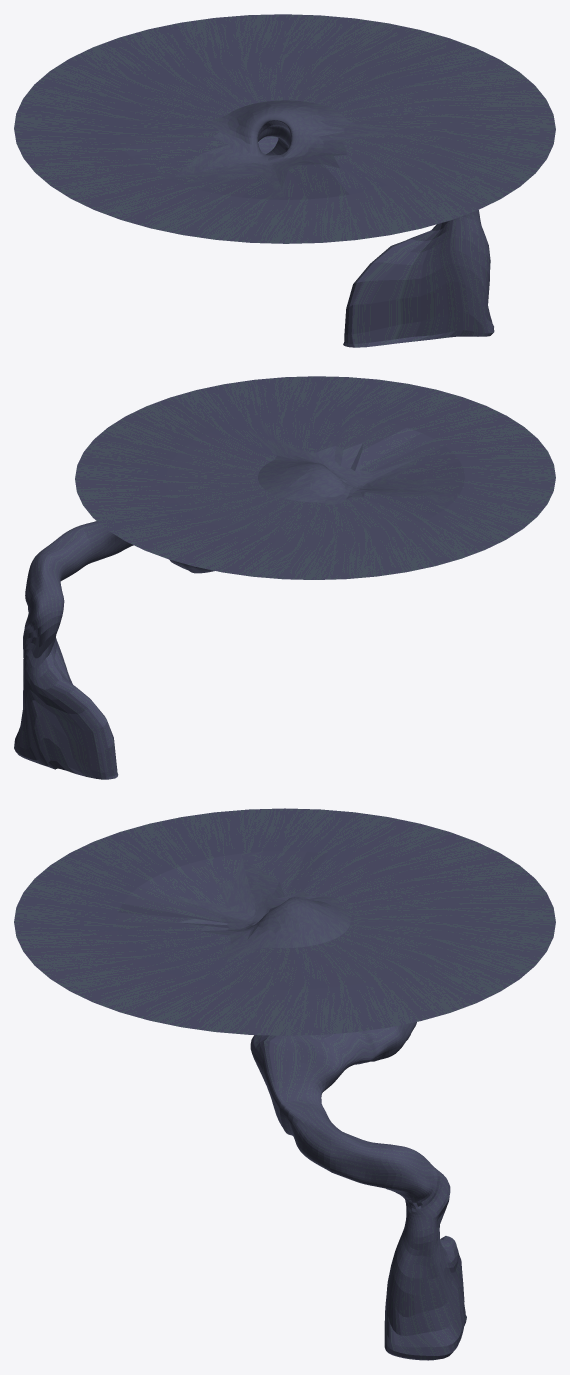
Rendered from Tunnel.fbx.
3 views of the same model, one above another, from view 1: azimuth 30°, elevation 25°; view 2: azimuth 150°, elevation 25°; view 3: azimuth 270°, elevation 25° (orthographic). The views are drawn at different scales.
Visible parts, largest first — view 1: Torus; view 2: Torus; view 3: Torus.
Boxes of the visible parts, <box> form: Torus: <box>14,14,555,347</box>; Torus: <box>14,376,555,779</box>; Torus: <box>14,808,555,1360</box>.
Bounding box in the file's own units: 14233 × 9077 × 13460.
